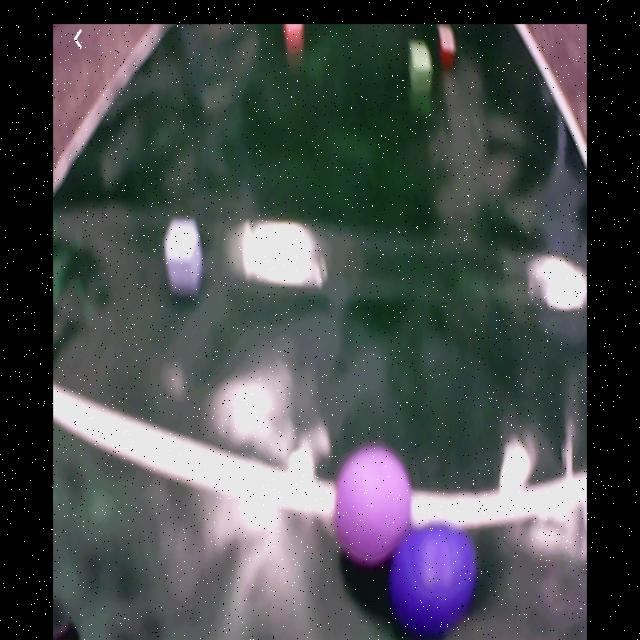ball: (394, 522, 480, 629), (334, 451, 415, 564)
